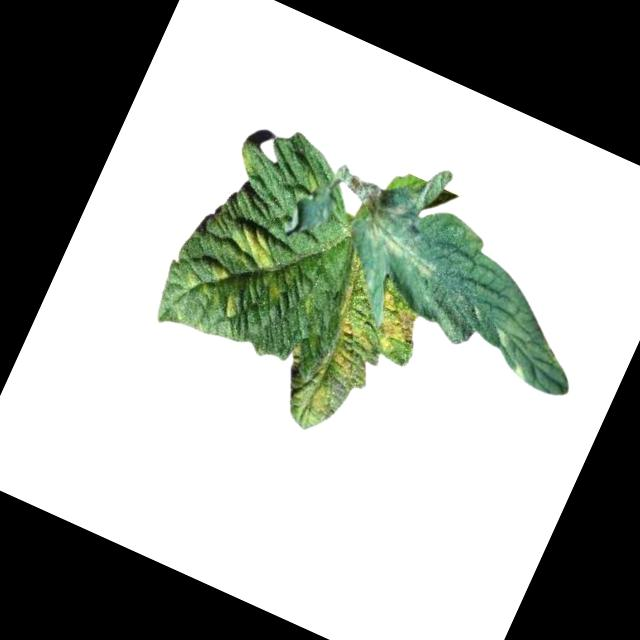Leaf_Mold: (346, 182, 456, 282), (294, 308, 375, 434), (361, 286, 429, 360), (225, 223, 285, 276), (201, 261, 229, 286)
